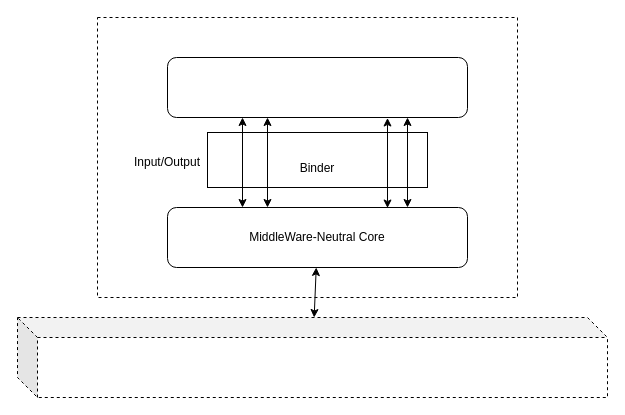
Some shapes in this 625 by 415 pixel diagram are drawn without their labels. Here are the shapes that lost their labels. From the top down, the centre of each, then its label:
At (317,87): "Application Core".
At (312,357): "Middleware Infrastructure".
